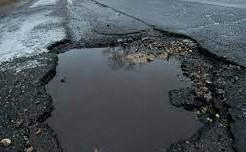pothole: (36, 34, 224, 152)
